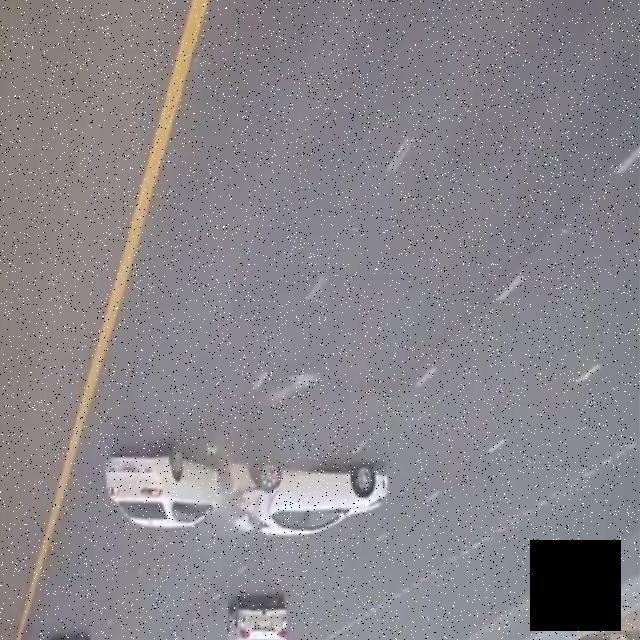vehicle: (108, 417, 394, 546)
